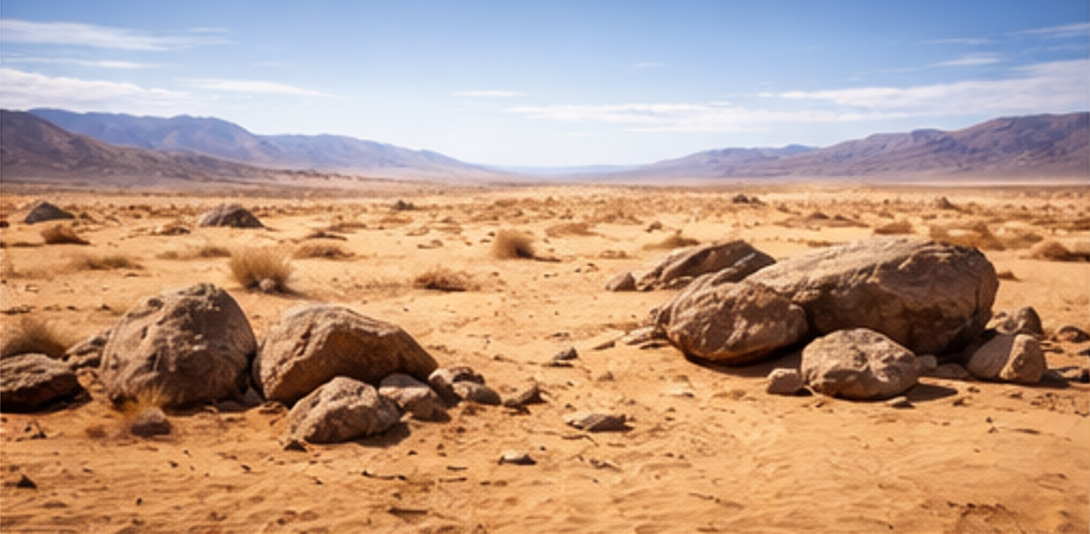rocks: (742, 236, 997, 353), (99, 284, 255, 406), (252, 304, 436, 403), (656, 274, 806, 363), (800, 328, 919, 398), (606, 240, 773, 289), (285, 376, 399, 442), (2, 353, 83, 409), (966, 334, 1045, 383), (379, 372, 445, 420), (987, 307, 1044, 338), (196, 203, 262, 226), (562, 413, 628, 431), (22, 200, 74, 221), (765, 368, 803, 394), (440, 391, 441, 393)
